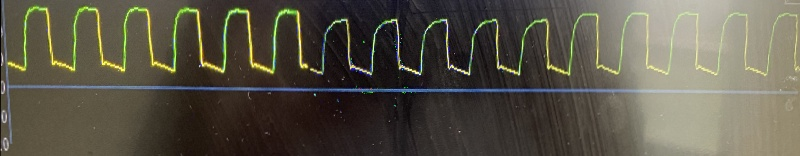normal_pressure: (2, 0, 787, 85)
